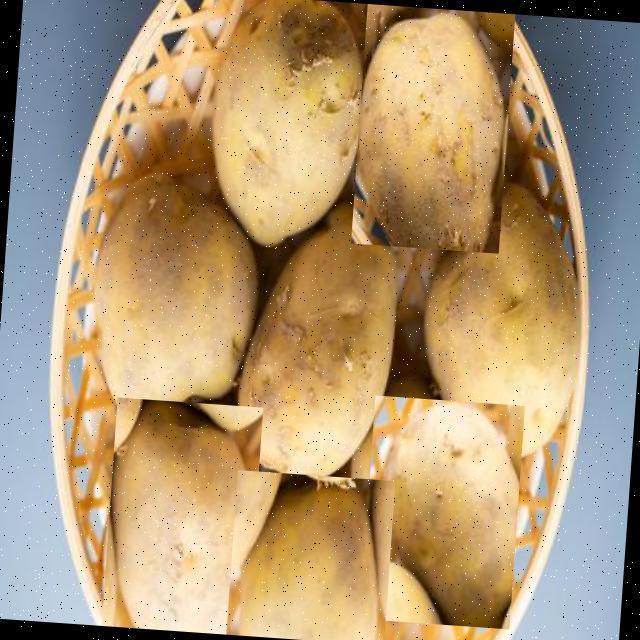potato: (226, 202, 406, 507), (405, 183, 578, 491), (80, 143, 260, 437), (200, 0, 384, 255), (349, 3, 514, 253), (100, 396, 262, 636), (359, 394, 524, 628), (225, 468, 394, 640)
